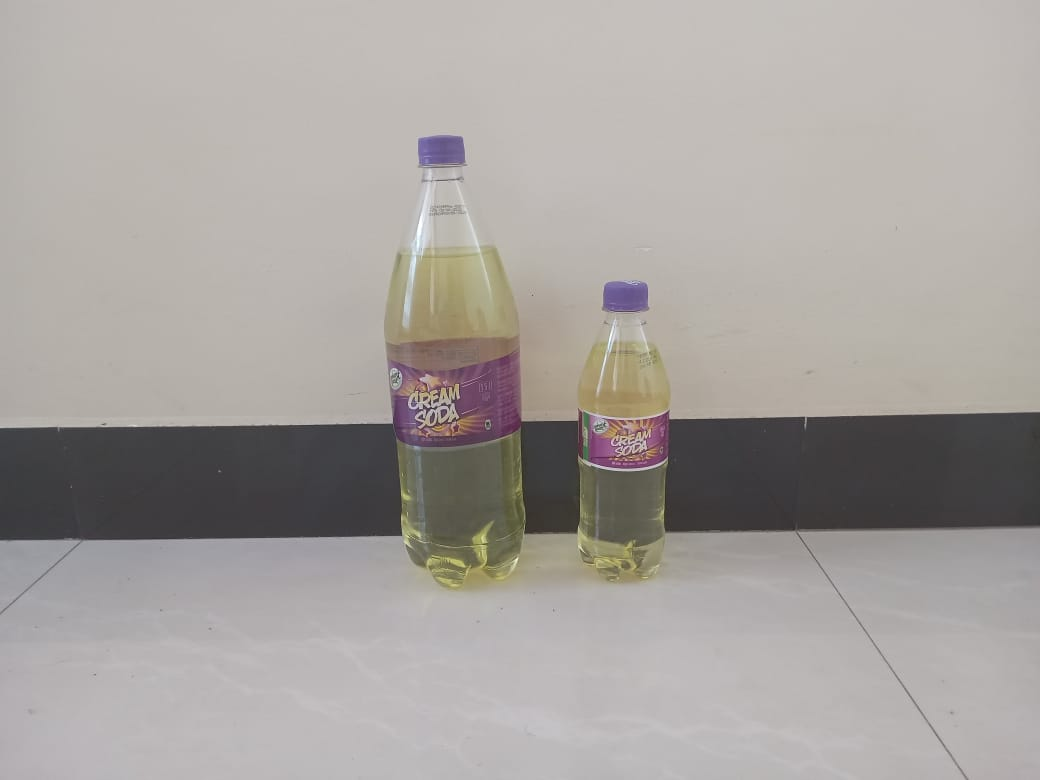L: (385, 132, 529, 591)
S: (573, 280, 675, 584)
